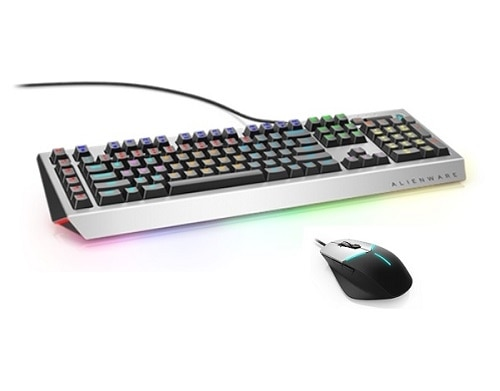keyboard: (26, 100, 475, 239)
mouse: (312, 238, 420, 309)
